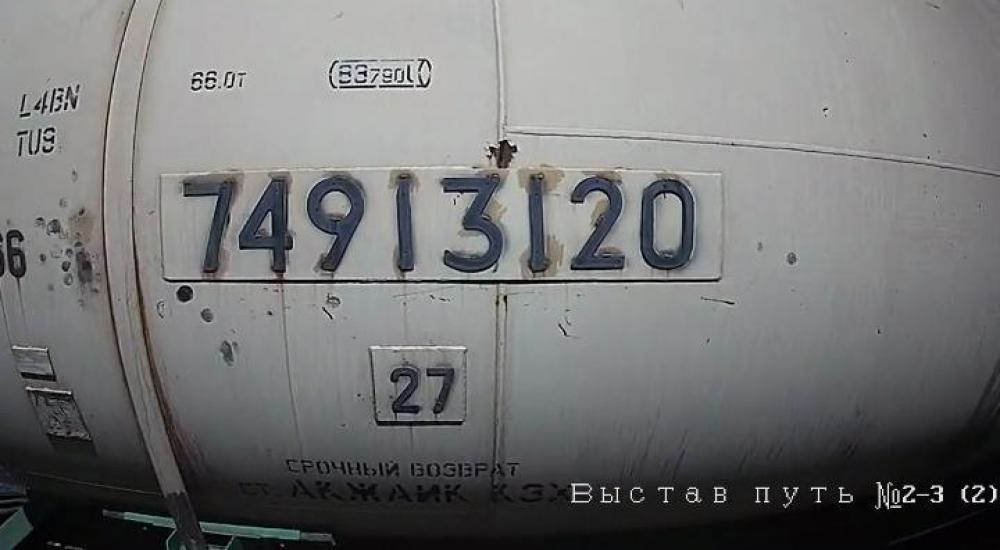Wagon-number: (181, 169, 698, 278)
